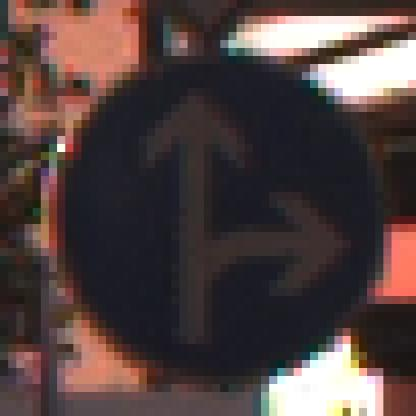Straight or Right: (42, 41, 376, 369)
